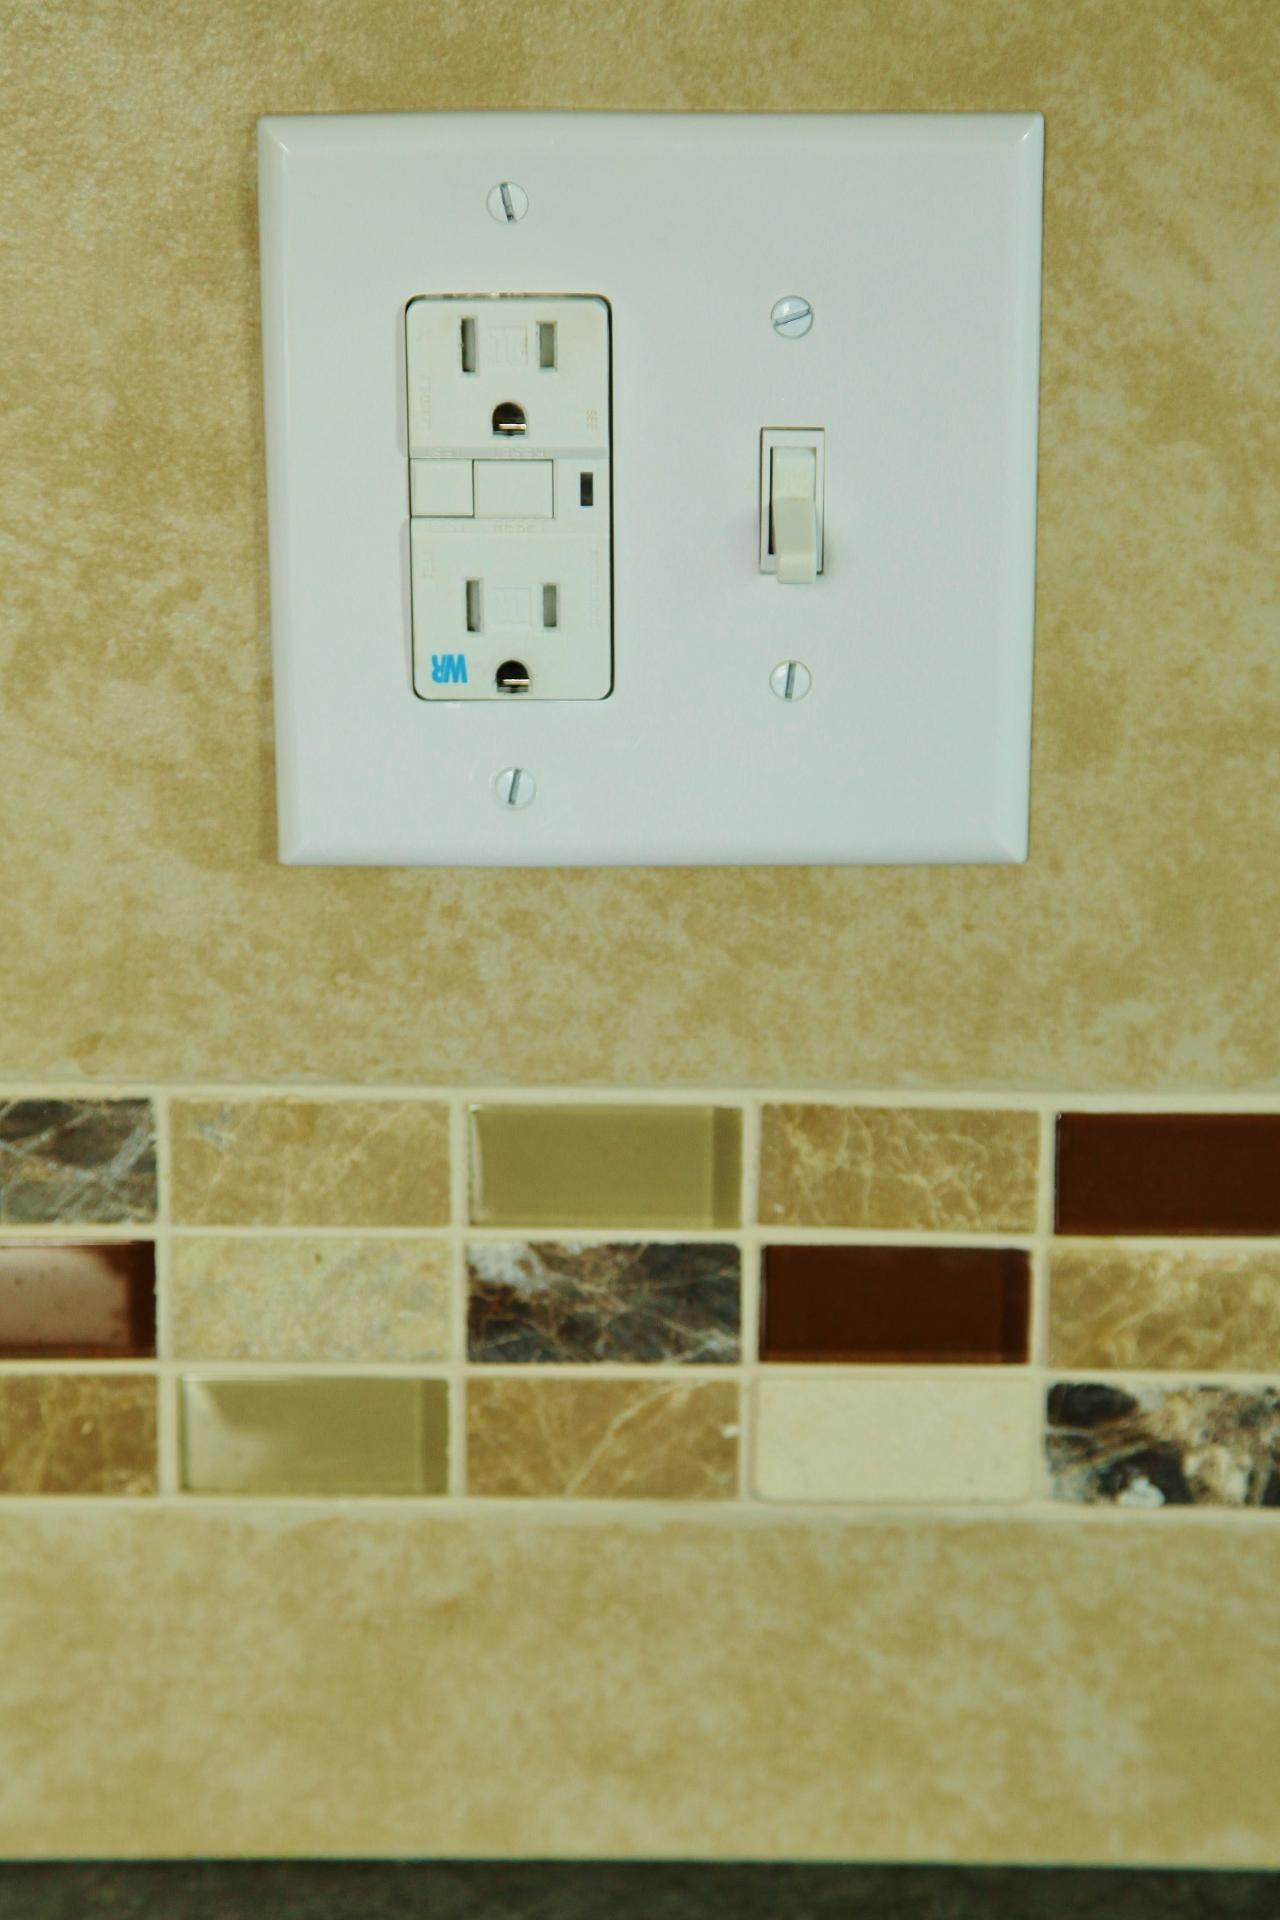outlet: (449, 566, 590, 700), (441, 306, 576, 446)
